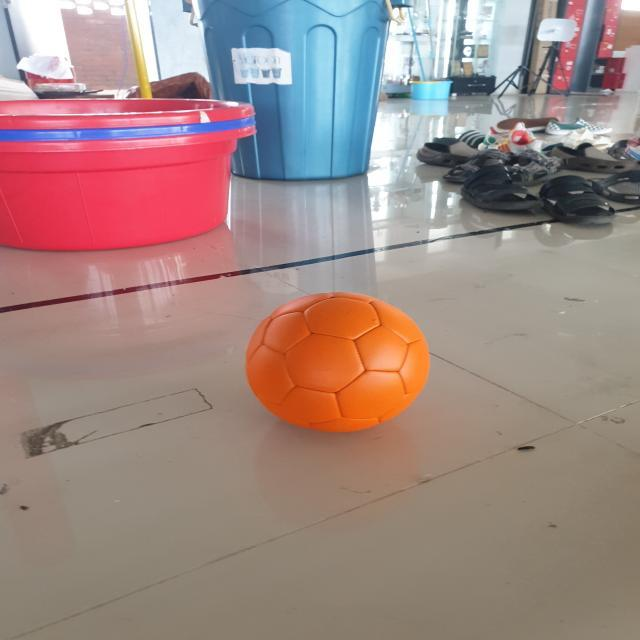bola: (242, 287, 438, 437)
